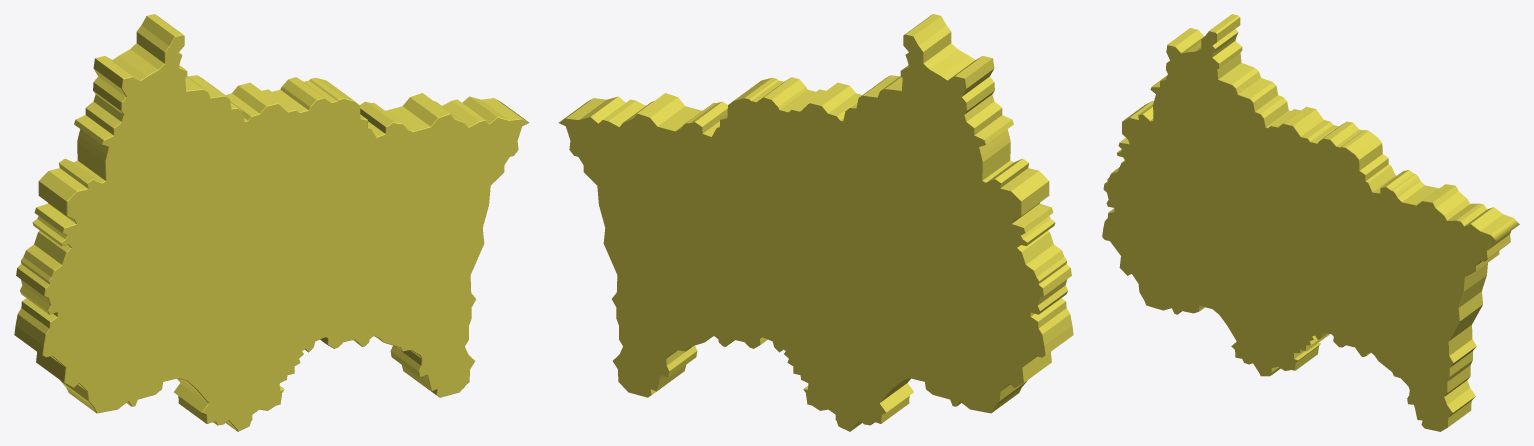
Rendered from GrandEst.glb.
3 renders of one model, left to right at view 1: azimuth 30°, elevation 25°; view 2: azimuth 150°, elevation 25°; view 3: azimuth 330°, elevation 25°, orthographic. The views are drawn at different scales.
Parts seen in each view (by area): view 1: Grand Est; view 2: Grand Est; view 3: Grand Est.
Boxes of the visible parts, box(x1,y1,x2,y2) form: Grand Est: box(14, 14, 529, 431); Grand Est: box(558, 14, 1073, 431); Grand Est: box(1102, 14, 1519, 431).
Bounding box in the file's own units: 1.27 × 1.07 × 0.1283.
